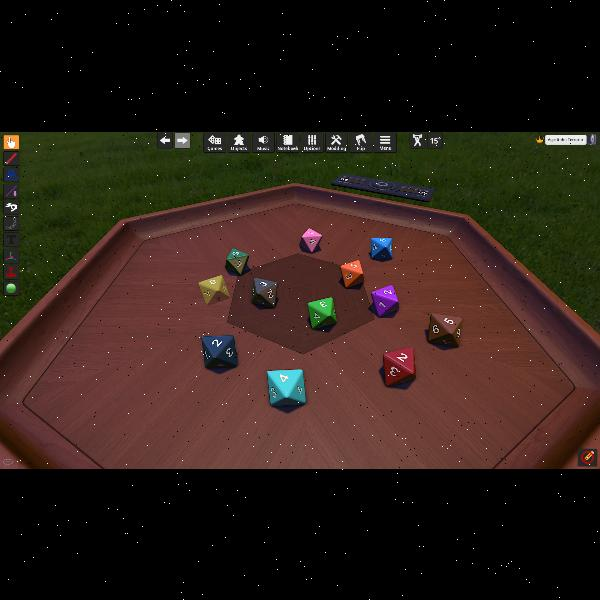d8: (268, 368, 305, 406), (382, 346, 414, 386), (201, 334, 237, 367), (426, 310, 458, 344), (199, 274, 229, 306), (371, 283, 398, 315), (307, 298, 335, 328), (252, 276, 278, 308), (226, 248, 250, 274), (340, 260, 362, 286), (370, 236, 392, 260), (301, 228, 321, 252)
